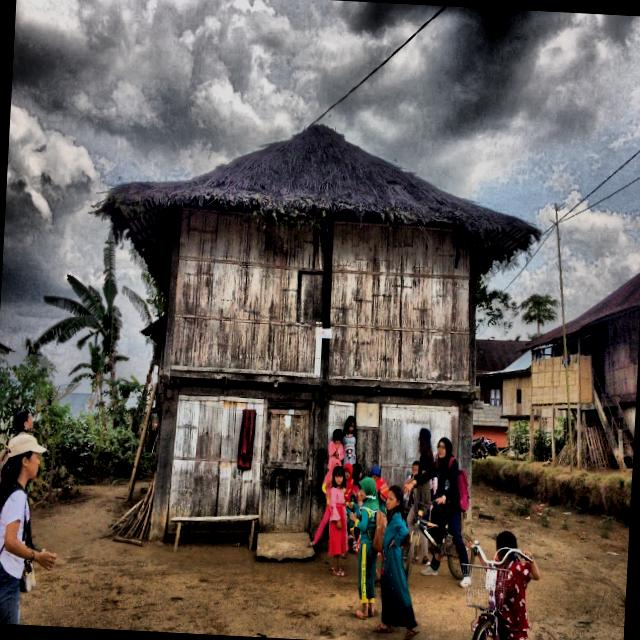column: (149, 385, 179, 542), (310, 389, 330, 542), (457, 401, 473, 538)
door: (260, 408, 311, 532), (489, 388, 501, 406)
roof: (97, 125, 539, 290), (566, 273, 640, 335), (475, 339, 528, 375), (528, 326, 562, 347)
stair: (593, 367, 634, 470)
wall: (171, 209, 324, 375), (329, 223, 470, 386), (167, 394, 264, 534), (326, 400, 459, 488), (603, 310, 640, 400), (532, 354, 579, 404), (502, 373, 532, 415)
window: (299, 272, 324, 322), (517, 389, 521, 403)
